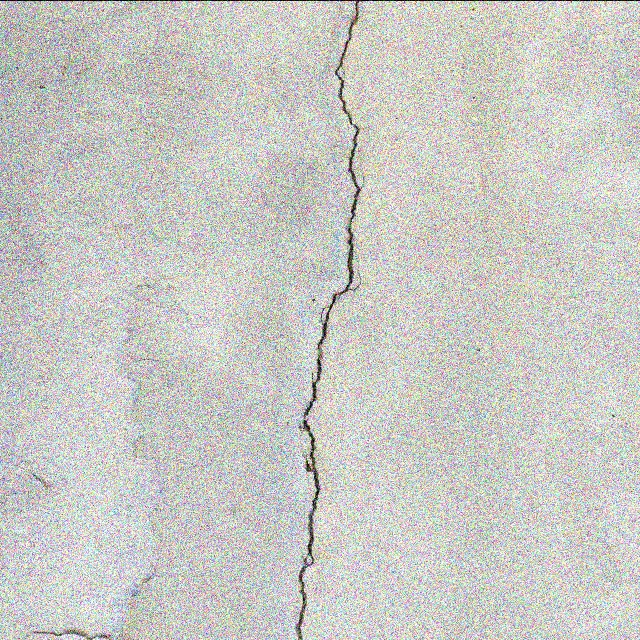SurfaceCrack: (268, 0, 404, 640)
